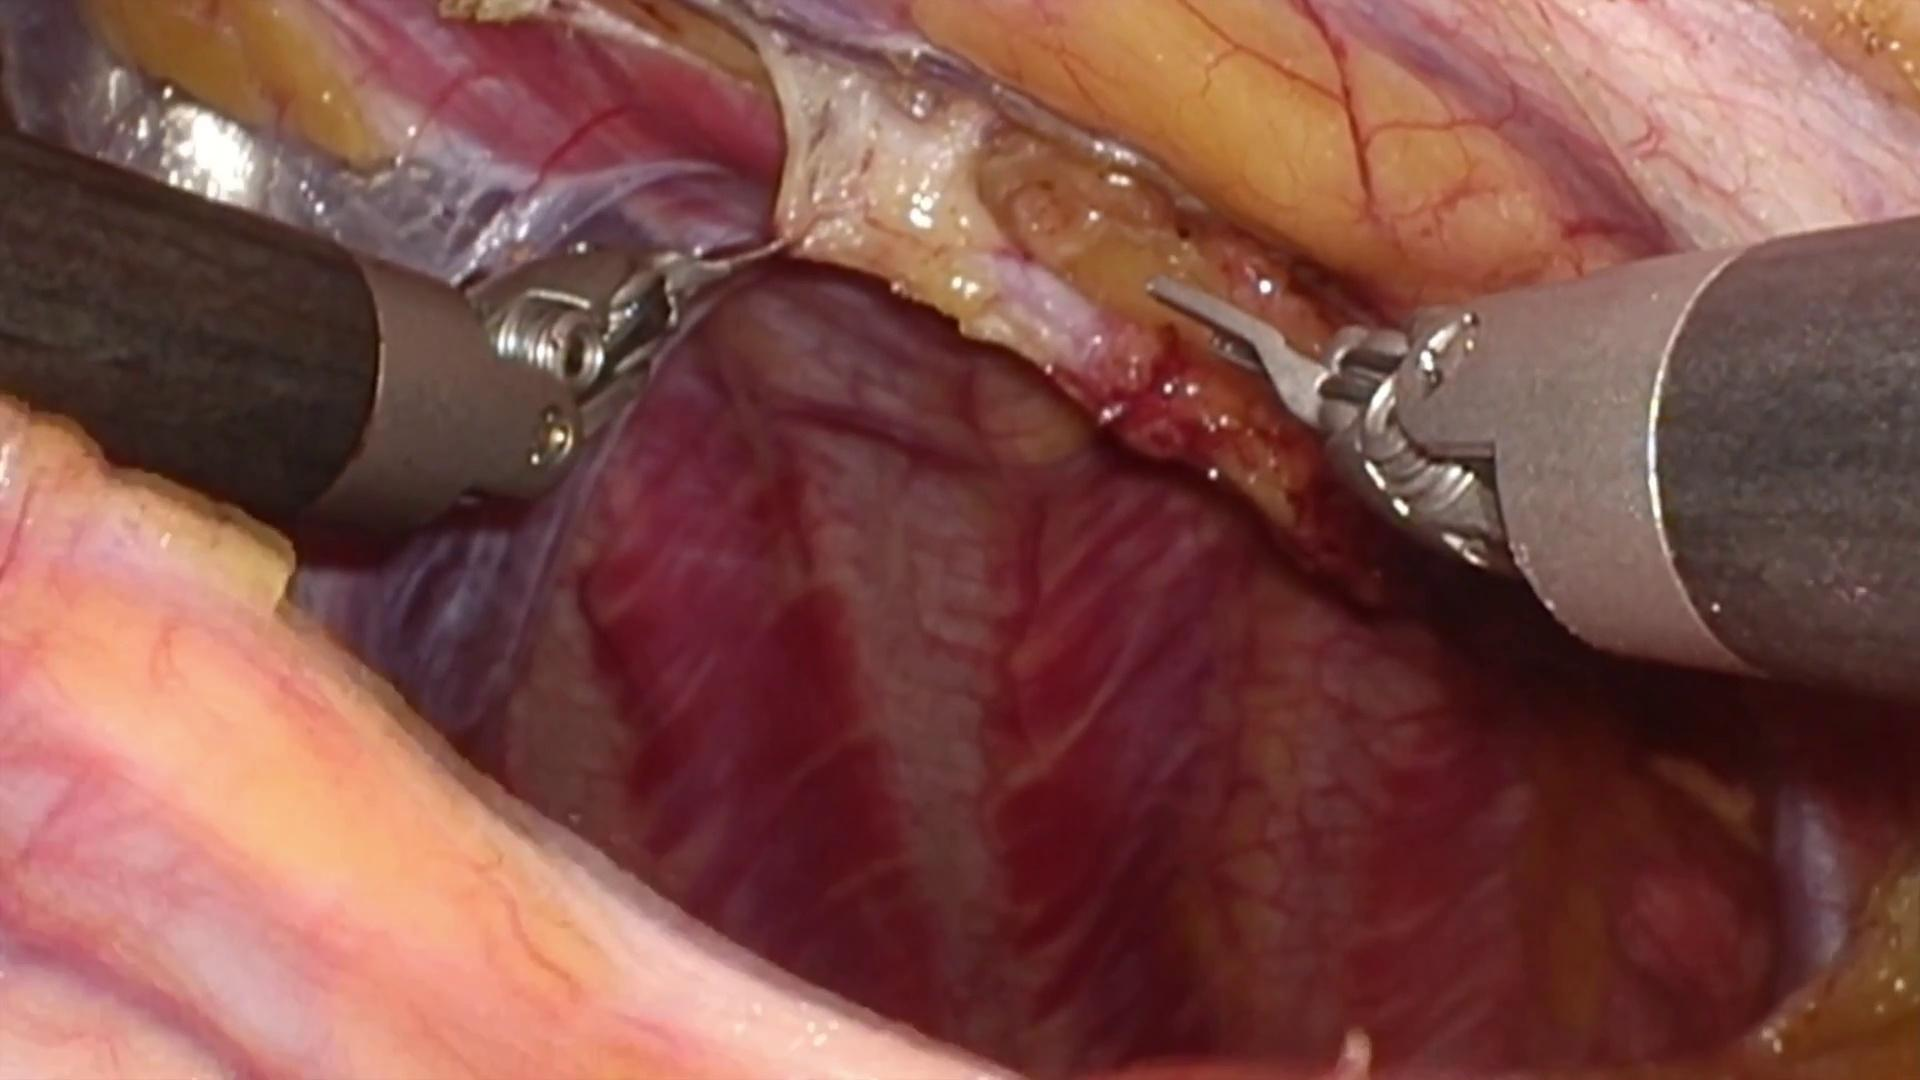Debakey: (647, 198, 798, 320)
clipper: (1149, 273, 1498, 530)
